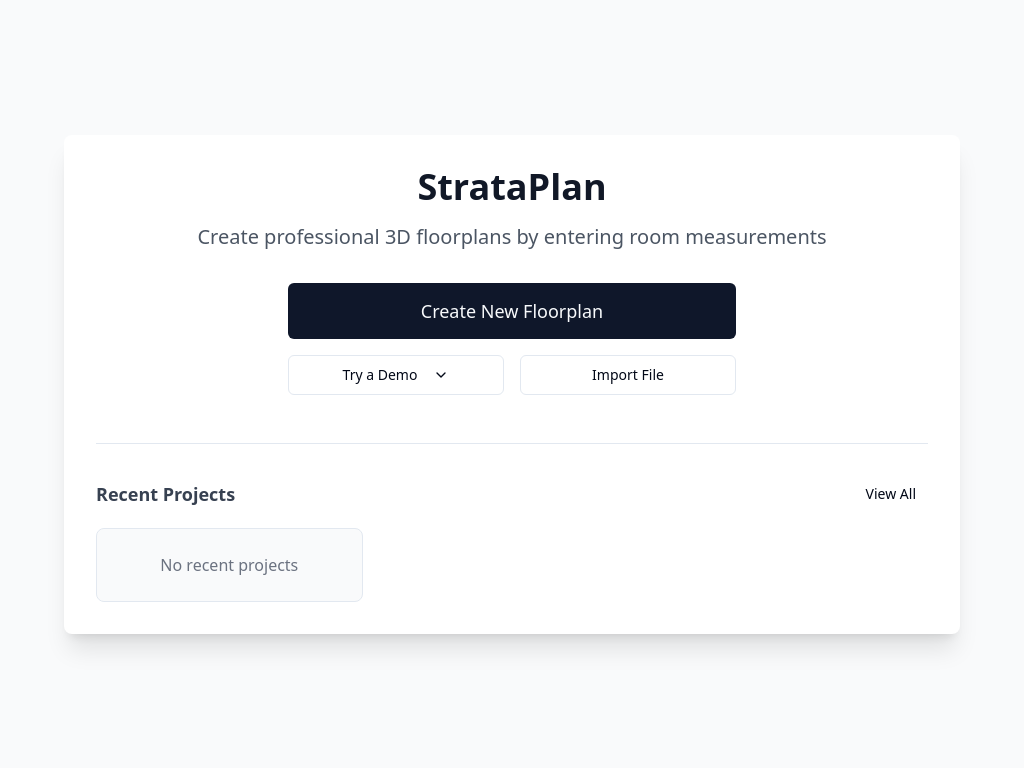
Test: Project Management Integration › allows creating a new project from landing page
Click Create
Click the button "Create New Floorplan" at point(512, 310), box 288,282 -> 736,338
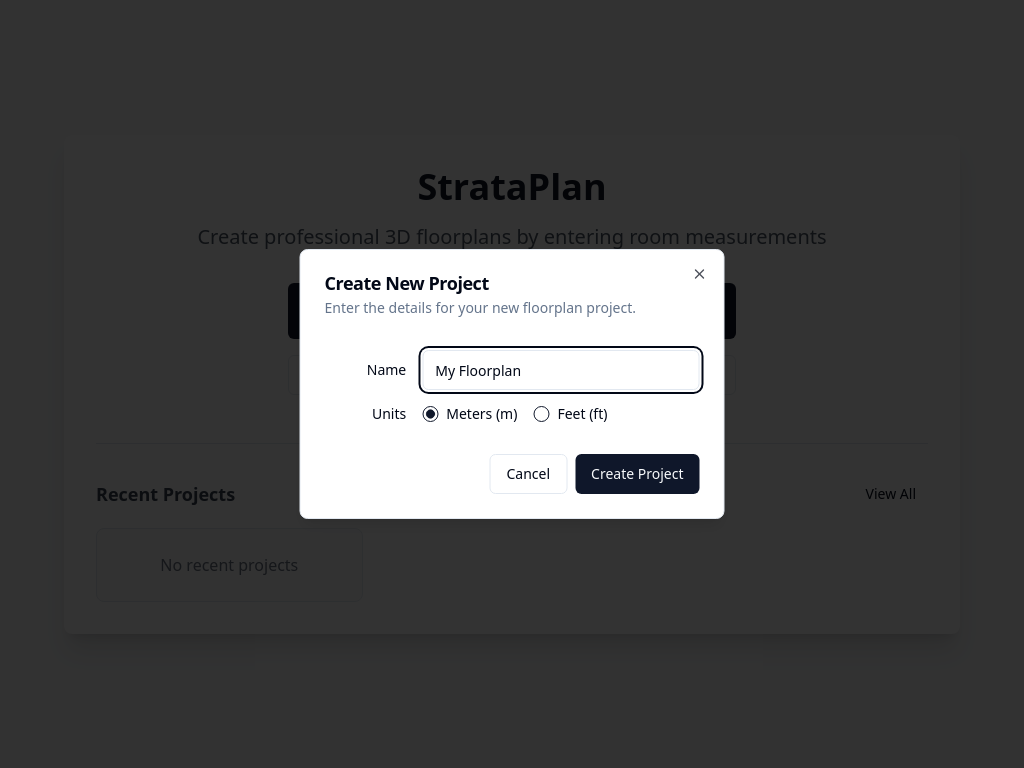
Check: the heading "Create New Project" is shown, box 324,271 -> 489,295
Fill form
Replace the text in the field labelled "Name" with "Integration Project" at point(561, 370), box 422,350 -> 700,390
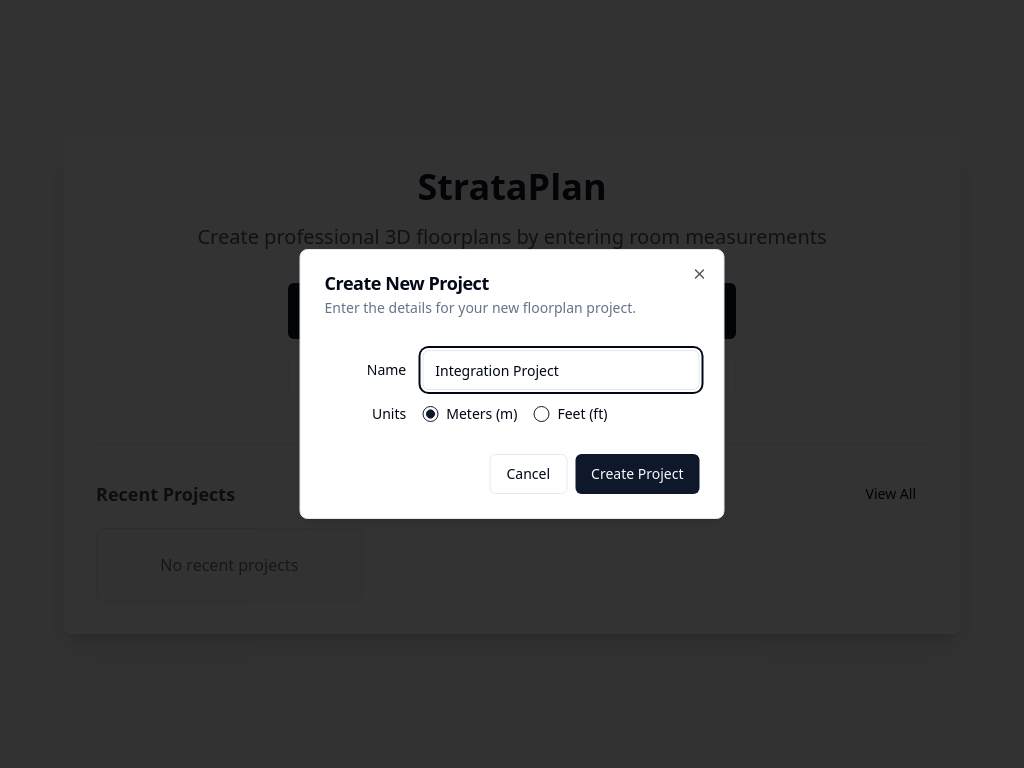
Click the button "Create Project" at point(637, 474), box 575,454 -> 700,494
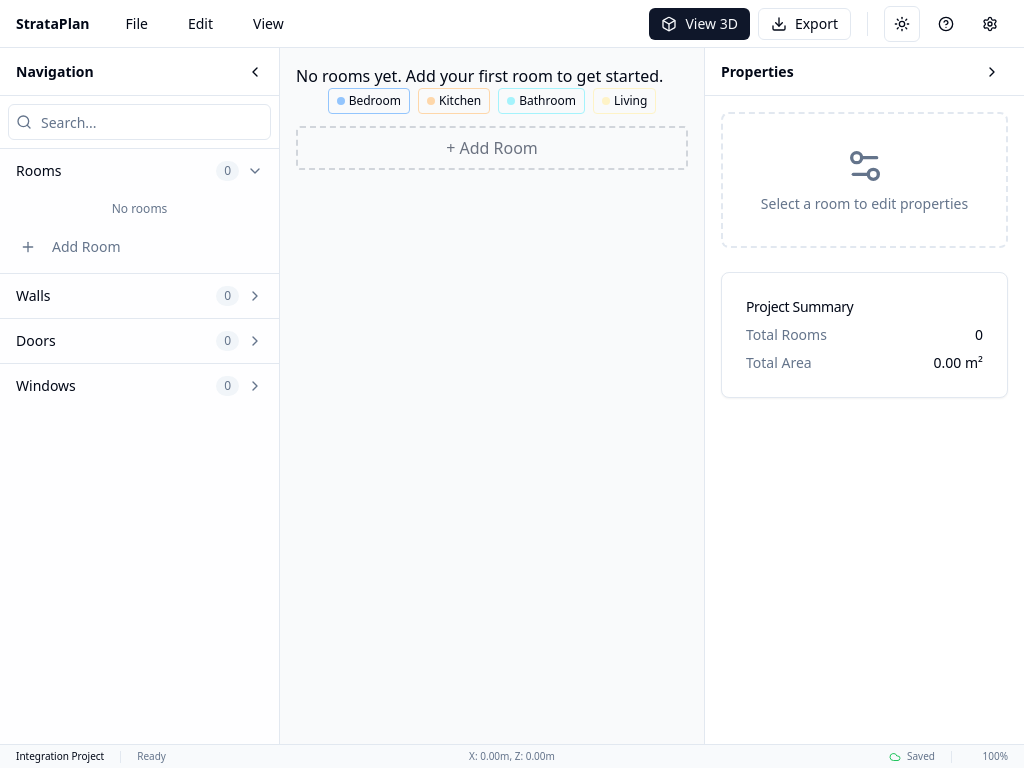
Check: the header with test id "top-toolbar" is shown, box 0,0 -> 1023,48
